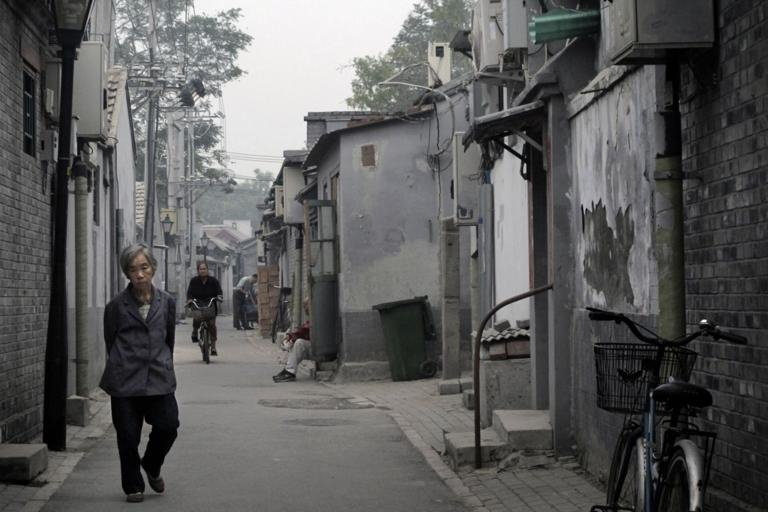non-vehicle: (585, 307, 747, 511), (183, 295, 224, 363), (267, 282, 291, 343)
